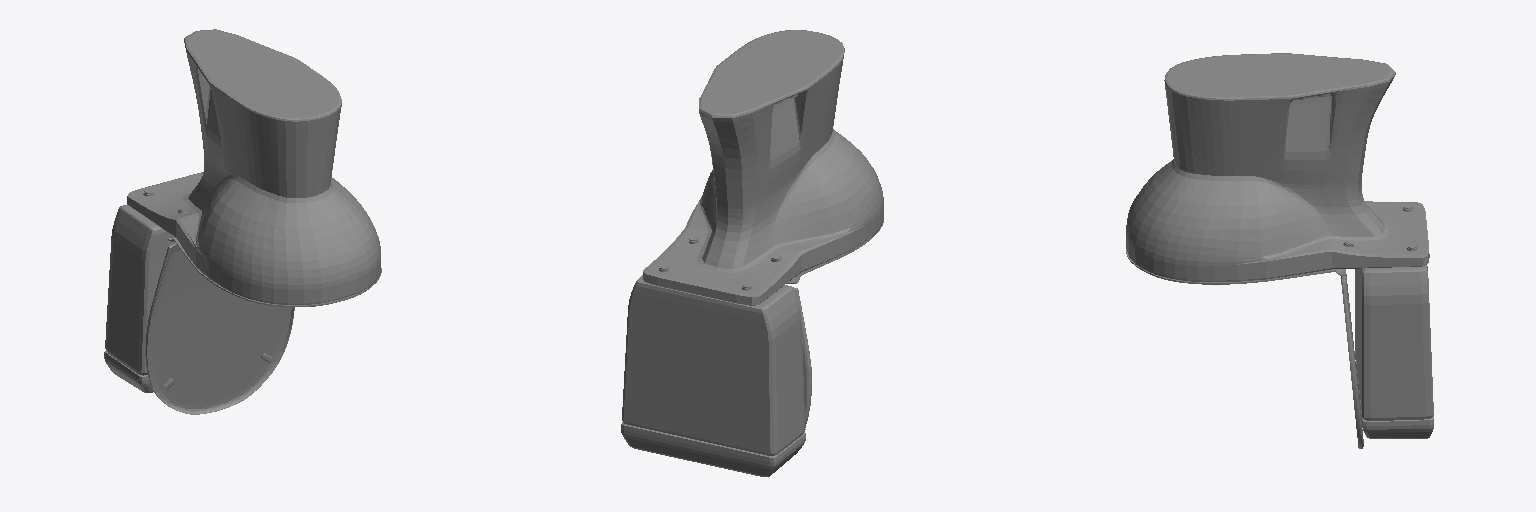
Rendered from Toilet.obj.
3 views of the same model, side by side, from view 1: azimuth 30°, elevation 25°; view 2: azimuth 150°, elevation 25°; view 3: azimuth 270°, elevation 25° (orthographic).
Visible parts, largest first — view 1: 10778_Toilet_V2; view 2: 10778_Toilet_V2; view 3: 10778_Toilet_V2.
Boxes of the visible parts, x1=… form: 10778_Toilet_V2: x1=104, y1=29, x2=381, y2=414; 10778_Toilet_V2: x1=621, y1=30, x2=883, y2=476; 10778_Toilet_V2: x1=1126, y1=53, x2=1433, y2=448.
Size of the model in its own units: 1.61 by 3.54 by 2.69.